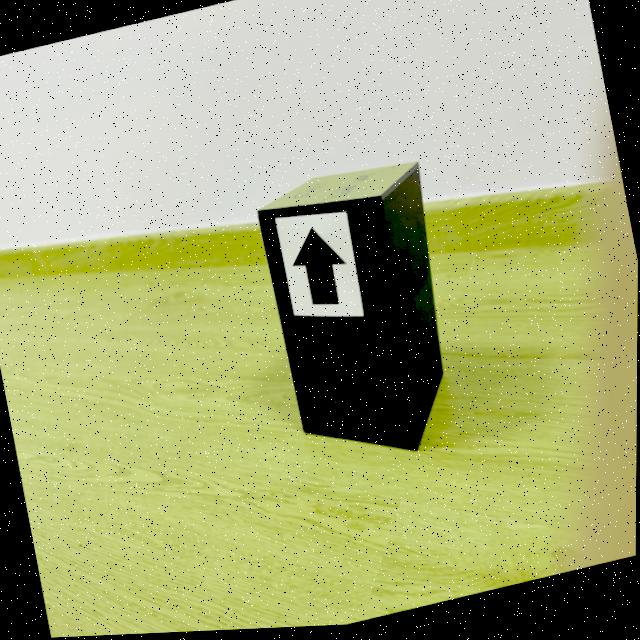UP: (292, 230, 347, 309)
